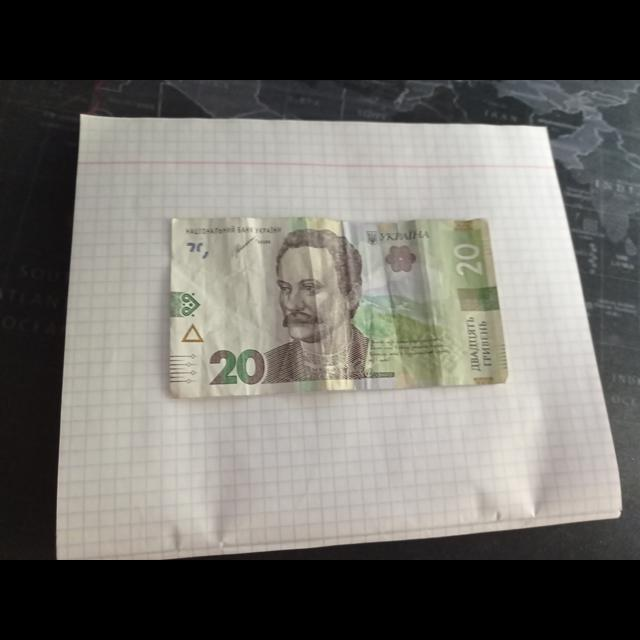20uah: (170, 218, 512, 396)
